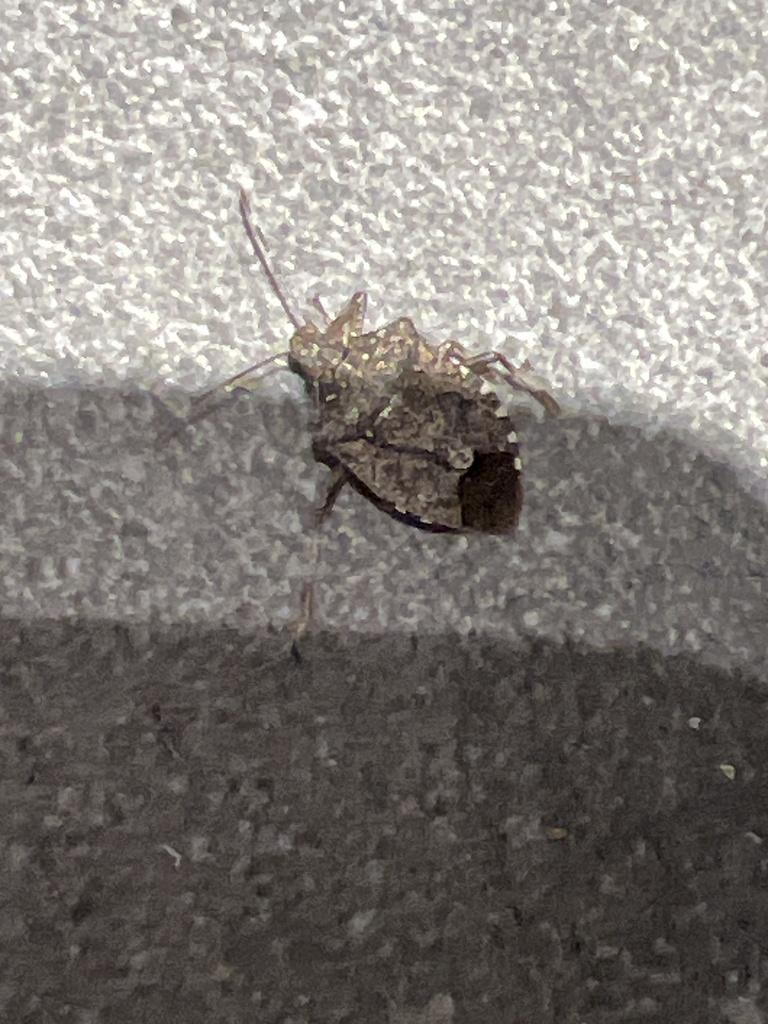stink_bugs: (133, 133, 635, 700)
